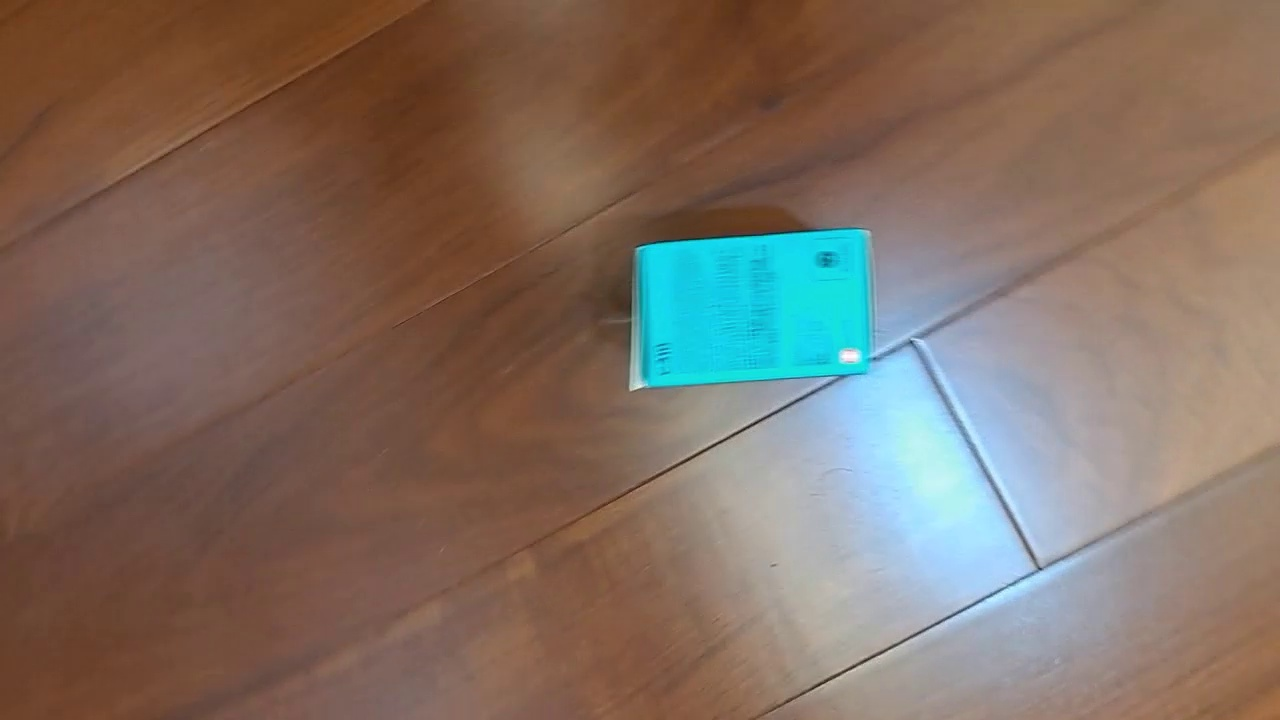webcam: (628, 227, 876, 392)
